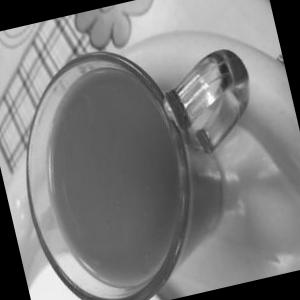coffee: (0, 9, 283, 300)
